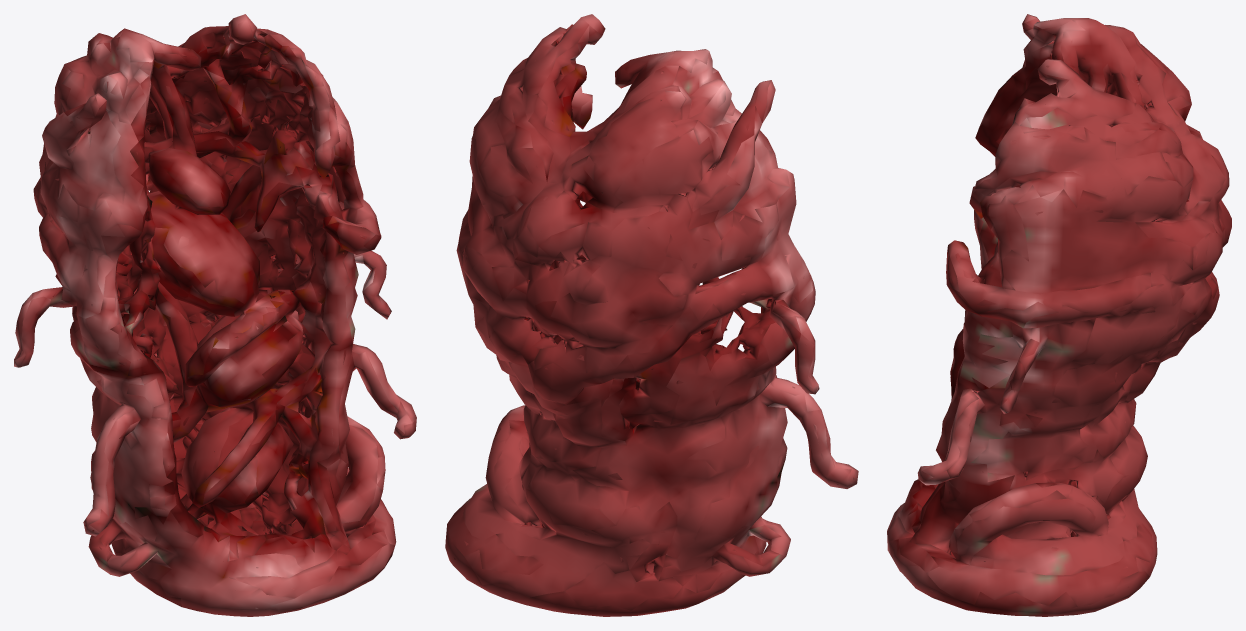
The model's file is SARGJ0.obj.
The picture shows the model from 3 angles, left to right: view 1: azimuth 30°, elevation 25°; view 2: azimuth 150°, elevation 25°; view 3: azimuth 270°, elevation 25°; orthographic projection. The views are drawn at different scales.
Bounding box in the file's own units: 0.6882 × 1 × 0.6159.
Materials: 1 (1 with a texture image).
